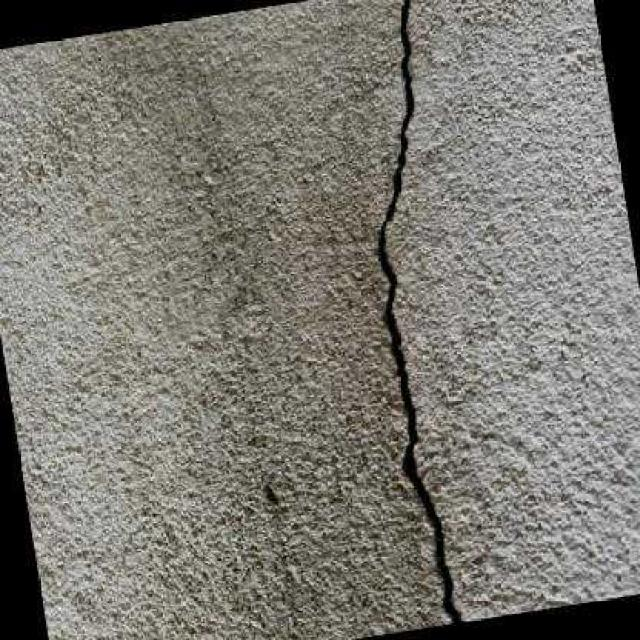D00: (374, 0, 464, 623)
